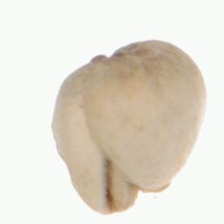L3: (101, 159, 167, 212)
L4: (52, 40, 208, 215)
